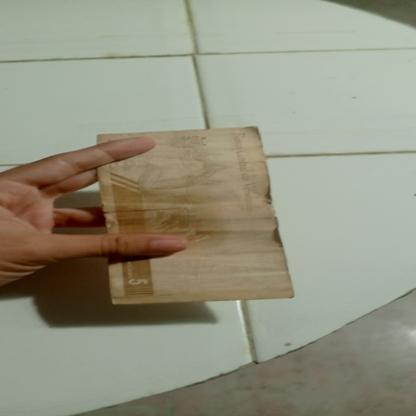five-back-vef: (94, 124, 294, 304)
